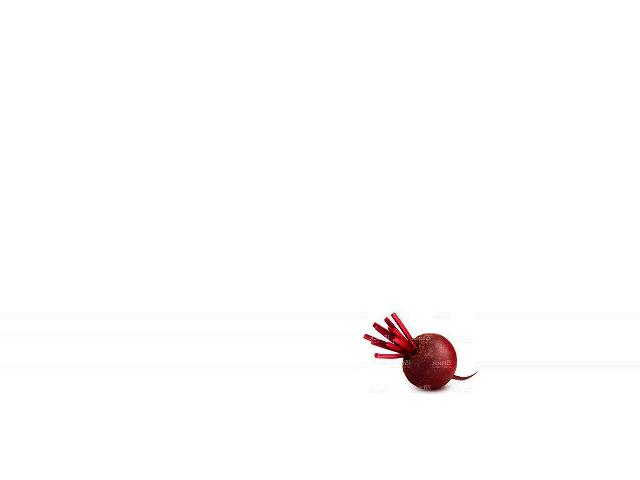beet: (363, 313, 476, 389)
